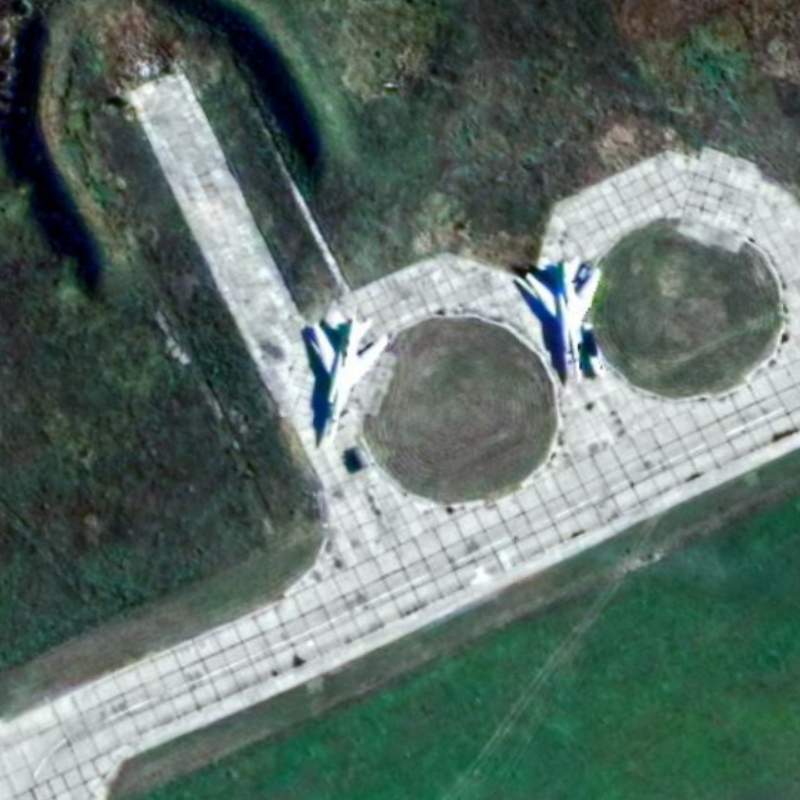A12: (307, 308, 392, 447), (524, 253, 604, 388)
